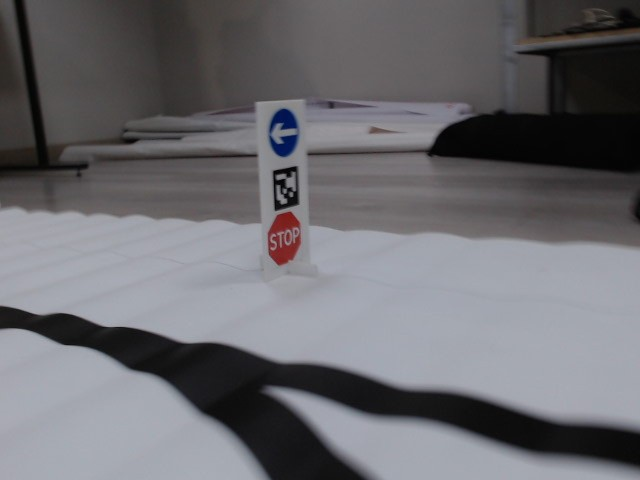Stop: (267, 213, 303, 263)
